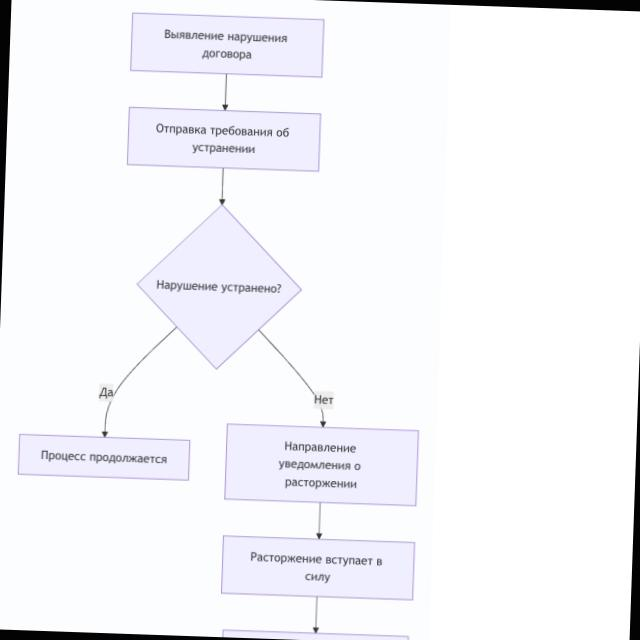arrow: (113, 327, 176, 397), (259, 330, 314, 394), (220, 169, 225, 205), (317, 503, 322, 539), (223, 74, 227, 110), (314, 597, 318, 633)
diamond: (139, 207, 300, 368)
rectangle: (224, 424, 418, 505), (221, 536, 414, 600), (131, 13, 324, 76), (128, 108, 321, 171), (19, 434, 189, 480)
text_region: (306, 391, 352, 410), (86, 382, 128, 402)
